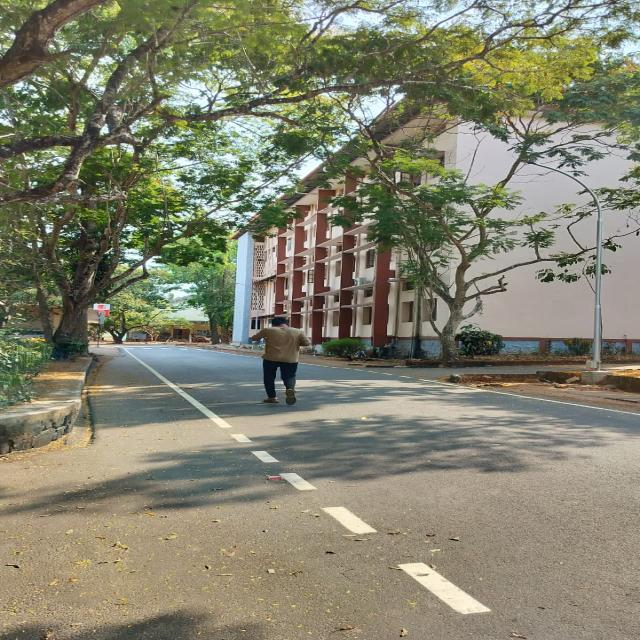person ahead at: (238, 310, 315, 404)
